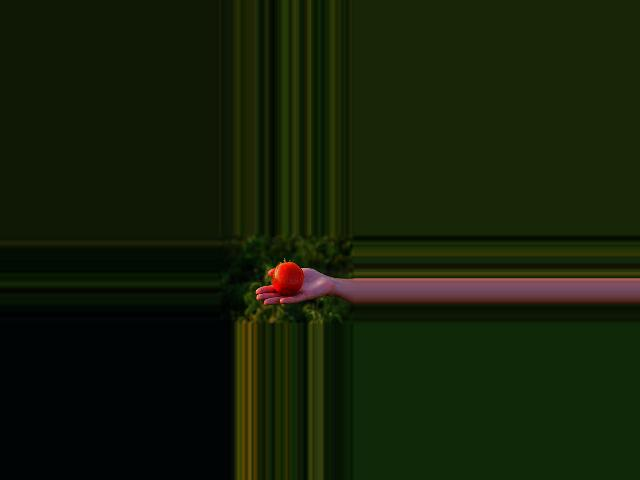tomato: (272, 262, 302, 296)
